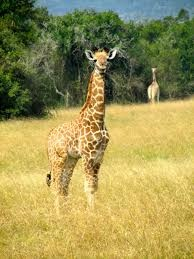giraffe: (43, 46, 119, 234), (147, 66, 162, 105)
